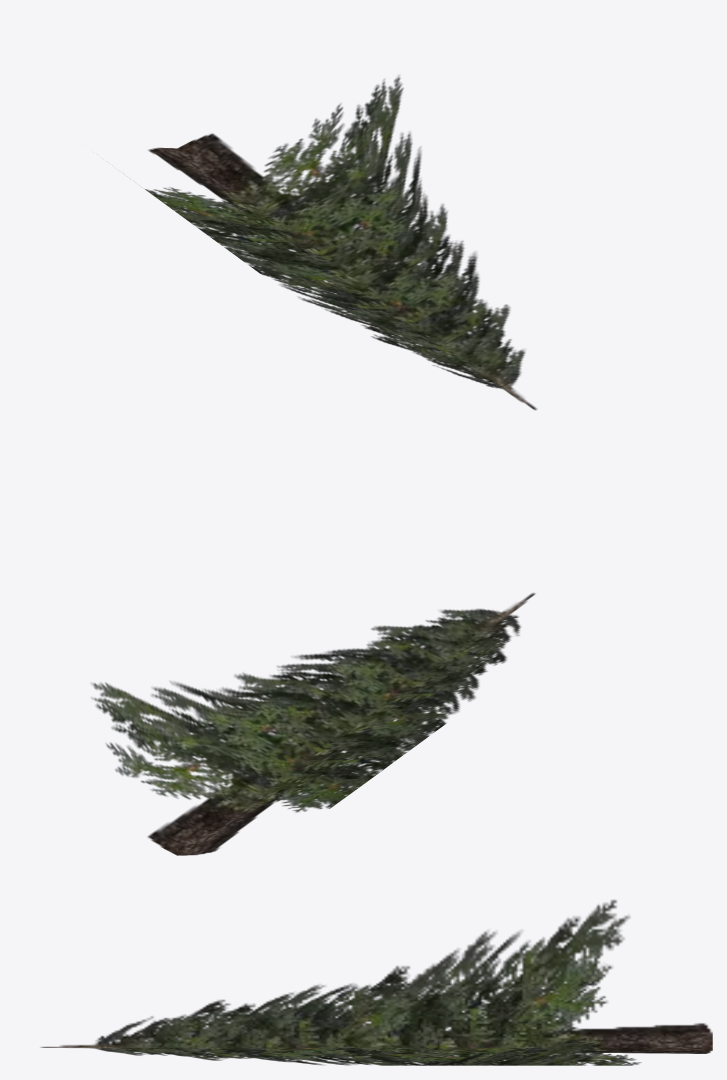
The picture shows the model from 3 angles, top to bottom: view 1: azimuth 30°, elevation 25°; view 2: azimuth 150°, elevation 25°; view 3: azimuth 270°, elevation 25°; orthographic projection. The views are drawn at different scales.
Visible parts, largest first — view 1: model_Object06; view 2: model_Object06; view 3: model_Object06.
Boxes of the visible parts, box(x1,y1,x2,y2) form: model_Object06: box(123, 76, 536, 410); model_Object06: box(92, 593, 535, 855); model_Object06: box(40, 900, 712, 1065).
Bounding box in the file's own units: 3.01 × 0.8295 × 5.94.
Materials: 1 (1 with a texture image).
